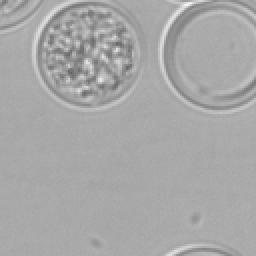picoshell: (32, 0, 140, 110), (158, 0, 254, 112), (164, 242, 234, 254)
